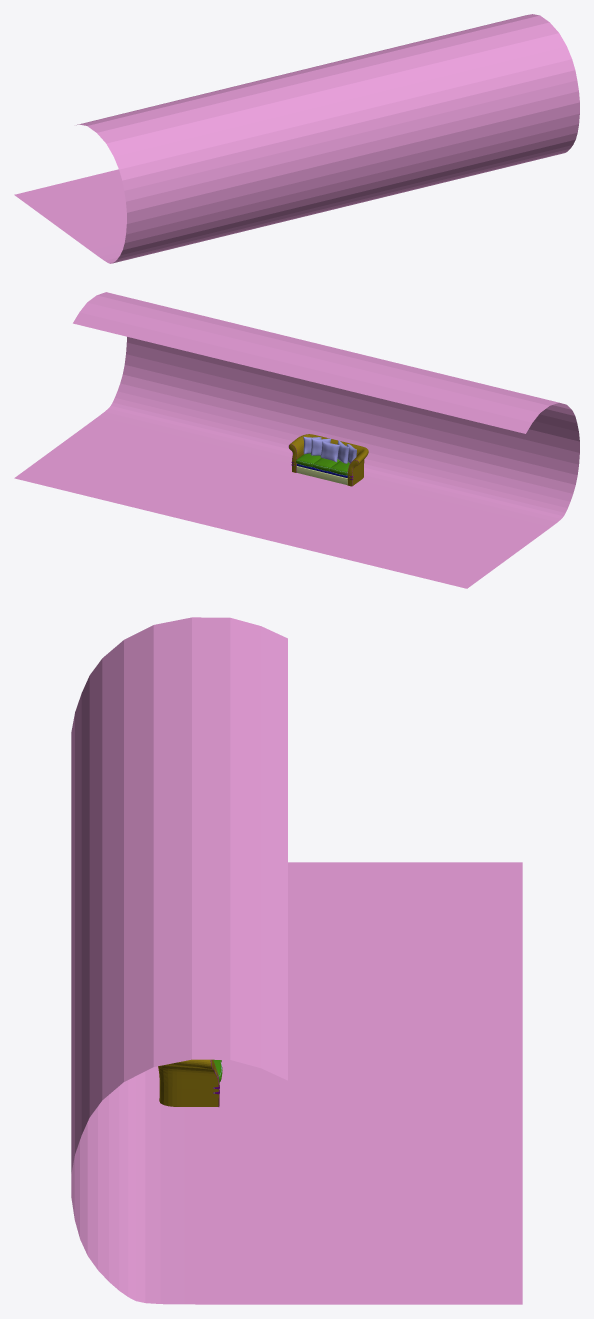
File: fendiOBJ.obj
The picture shows the model from 3 angles, top to bottom: view 1: azimuth 30°, elevation 25°; view 2: azimuth 150°, elevation 25°; view 3: azimuth 270°, elevation 25°; orthographic projection. The views are drawn at different scales.
Visible parts, largest first — view 1: Fob; view 2: Fob, Plane03, ChamferBox01; view 3: Fob, Plane03.
Boxes of the visible parts, x1,y1,x2,y2 form: Fob: (14, 14, 579, 263); Fob: (14, 292, 579, 588); Plane03: (289, 434, 368, 486); ChamferBox01: (296, 466, 347, 485); Fob: (71, 617, 522, 1304); Plane03: (158, 1059, 219, 1106).
Bounding box in the file's own units: 14811 × 3825 × 6392.
